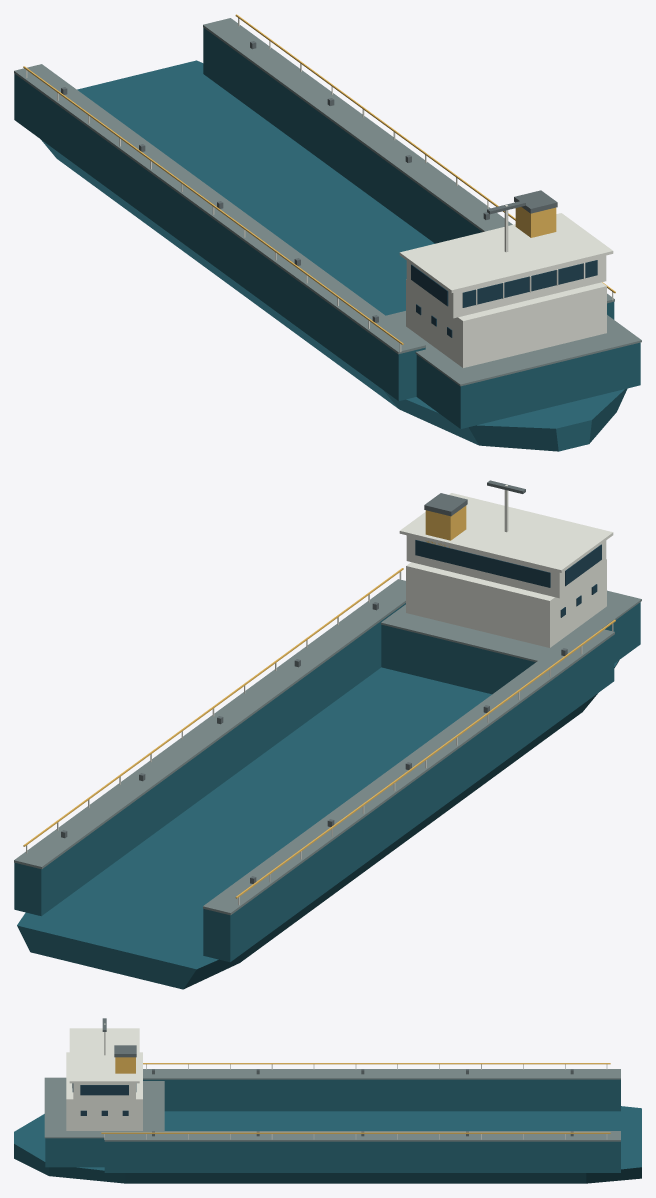
The model's file is heavy_lifter_01.glb.
3 renders of one model, top to bottom at view 1: azimuth 30°, elevation 25°; view 2: azimuth 150°, elevation 25°; view 3: azimuth 270°, elevation 25°, orthographic. The views are drawn at different scales.
Visible parts, largest first — view 1: MESH_hull, MESH_side_pontoon_-1, MESH_side_pontoon_1, MESH_side_cap_-1, MESH_house_lower, MESH_foredeck, MESH_side_cap_1, MESH_bridge_roof, MESH_foredeck_cap, MESH_bridge, MESH_bridge_windows_front, MESH_rail_-1 (+4 smaller); view 2: MESH_hull, MESH_side_pontoon_-1, MESH_side_pontoon_1, MESH_side_cap_1, MESH_side_cap_-1, MESH_house_lower, MESH_bridge_roof, MESH_foredeck, MESH_foredeck_cap, MESH_bridge, MESH_bridge_windows_back, MESH_rail_-1 (+2 smaller); view 3: MESH_hull, MESH_side_pontoon_1, MESH_side_pontoon_-1, MESH_side_cap_-1, MESH_side_cap_1, MESH_bridge_roof, MESH_foredeck_cap, MESH_house_lower, MESH_foredeck, MESH_rail_1, MESH_rail_-1, MESH_bridge (+3 smaller).
Boxes of the visible parts, x1,y1,x2,y2 form: MESH_hull: [40, 60, 627, 451]; MESH_side_pontoon_-1: [14, 73, 425, 401]; MESH_side_pontoon_1: [203, 27, 614, 319]; MESH_side_cap_-1: [14, 64, 425, 354]; MESH_house_lower: [406, 279, 606, 367]; MESH_foredeck: [416, 342, 640, 428]; MESH_side_cap_1: [203, 18, 614, 303]; MESH_bridge_roof: [399, 213, 613, 293]; MESH_foredeck_cap: [386, 311, 641, 386]; MESH_bridge: [406, 255, 606, 318]; MESH_bridge_windows_front: [462, 260, 597, 307]; MESH_rail_-1: [23, 66, 403, 344]; MESH_hull: [17, 660, 619, 989]; MESH_side_pontoon_-1: [203, 635, 614, 962]; MESH_side_pontoon_1: [14, 603, 405, 916]; MESH_side_cap_1: [14, 579, 405, 869]; MESH_side_cap_-1: [203, 625, 614, 915]; MESH_house_lower: [406, 559, 606, 647]; MESH_bridge_roof: [399, 493, 613, 572]; MESH_foredeck: [381, 602, 640, 694]; MESH_foredeck_cap: [381, 590, 641, 662]; MESH_bridge: [406, 535, 606, 598]; MESH_bridge_windows_back: [415, 540, 550, 587]; MESH_rail_-1: [235, 619, 615, 898]; MESH_hull: [14, 1106, 641, 1183]; MESH_side_pontoon_1: [104, 1141, 620, 1172]; MESH_side_pontoon_-1: [143, 1079, 620, 1111]; MESH_side_cap_-1: [143, 1069, 620, 1079]; MESH_side_cap_1: [104, 1131, 620, 1141]; MESH_bridge_roof: [69, 1028, 139, 1083]; MESH_foredeck_cap: [44, 1077, 164, 1138]; MESH_house_lower: [66, 1052, 142, 1130]; MESH_foredeck: [45, 1138, 104, 1167]; MESH_rail_1: [101, 1132, 610, 1133]; MESH_rail_-1: [143, 1063, 610, 1064]; MESH_bridge: [73, 1083, 135, 1100].
Bounding box in the file's own units: 24.1 × 20.5 × 90.
